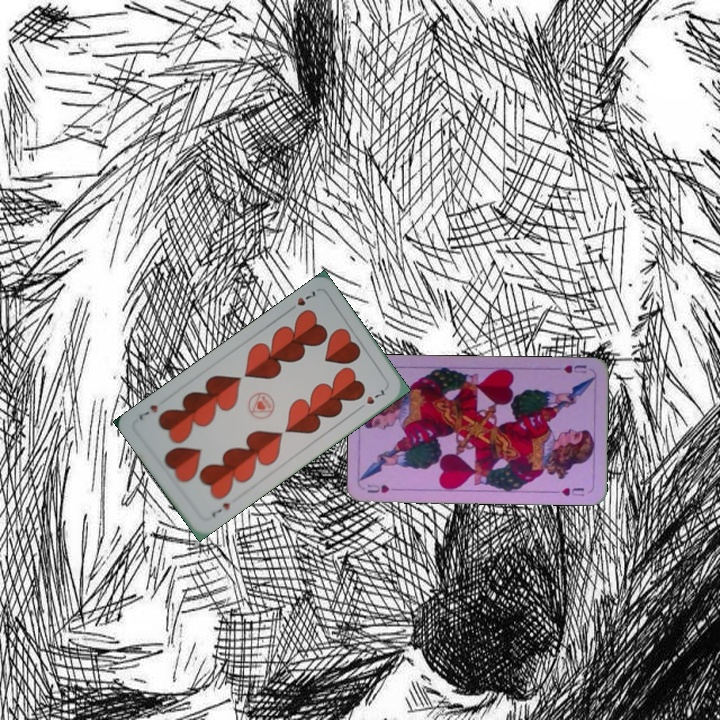H7: (284, 286, 320, 314), (208, 499, 232, 520)
HU: (363, 480, 402, 495), (560, 361, 589, 376)
